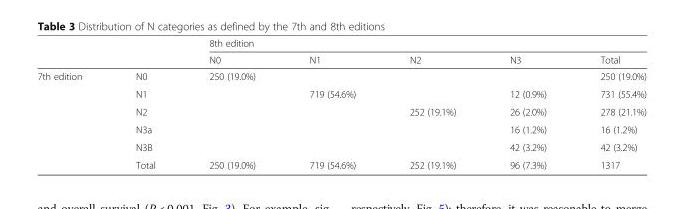table: (36, 37, 645, 170)
table column: (281, 37, 382, 170), (181, 37, 281, 170), (382, 37, 482, 170), (482, 37, 572, 170), (108, 37, 181, 170), (572, 37, 645, 170), (36, 37, 108, 170)
table column header: (36, 37, 645, 67)
table row: (36, 84, 645, 102), (36, 102, 645, 120), (36, 137, 645, 155), (36, 67, 645, 84), (36, 120, 645, 137), (36, 51, 645, 67), (36, 155, 645, 170), (36, 37, 645, 51)
table spanning cell: (36, 67, 108, 170), (181, 37, 645, 51)
